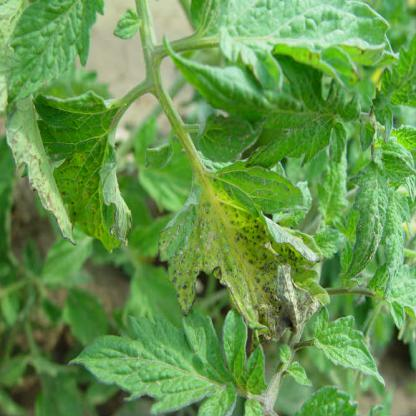Tomato leaf bacterial spot: (158, 146, 344, 349), (6, 67, 142, 281), (70, 295, 278, 414)
